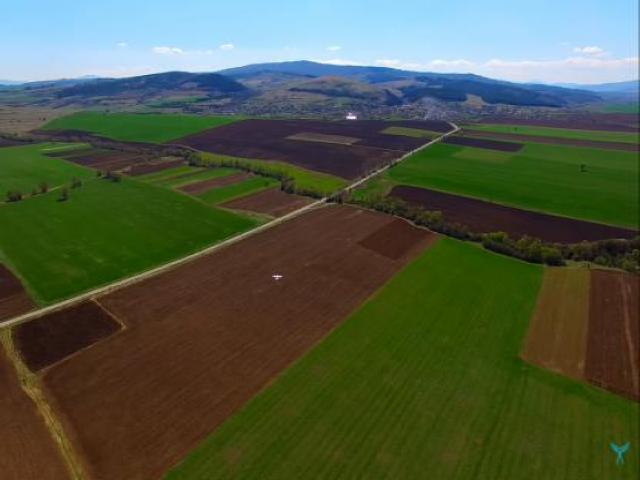uav: (268, 264, 286, 286)
